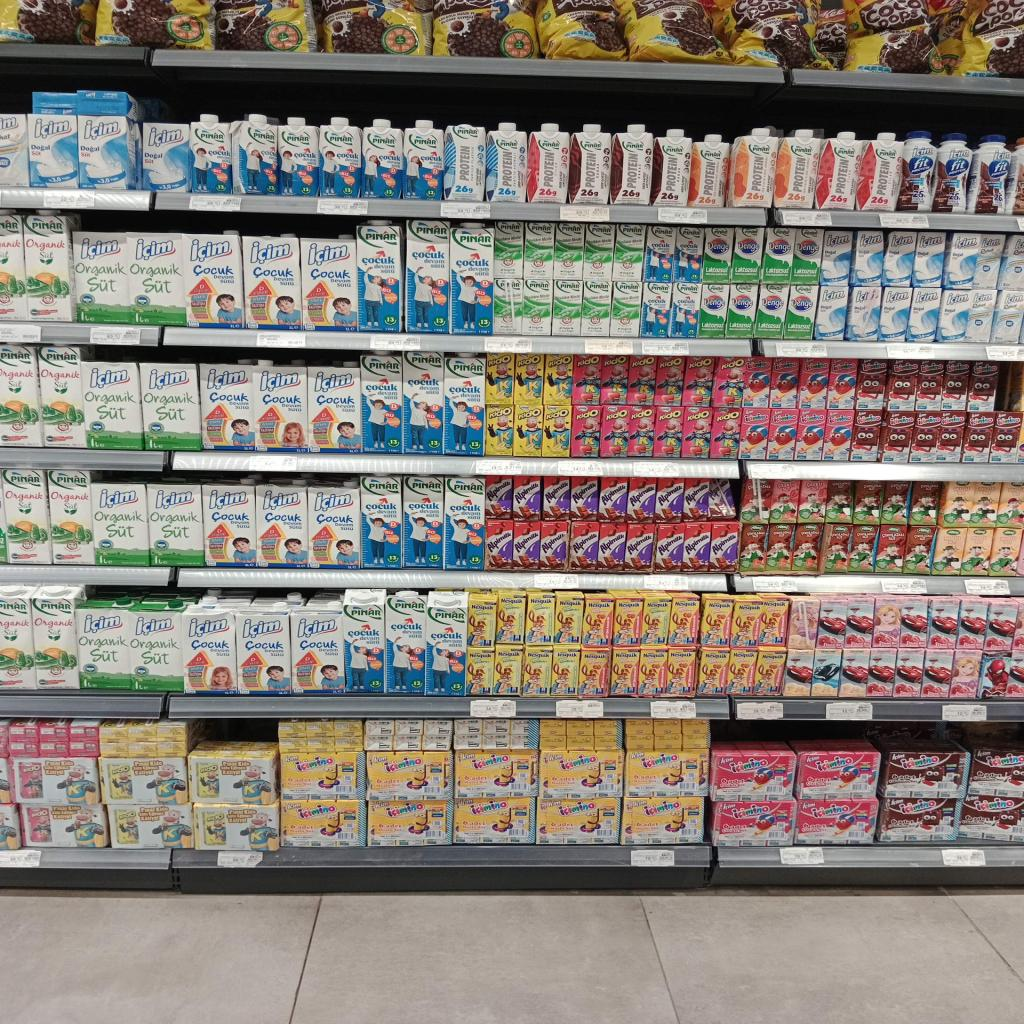price_tag: (555, 459, 619, 476), (41, 190, 95, 208), (90, 326, 140, 345), (779, 846, 825, 866), (632, 462, 689, 478), (248, 454, 298, 472), (826, 702, 873, 721), (190, 195, 241, 212), (318, 198, 368, 215), (736, 701, 783, 719), (556, 700, 603, 718), (651, 700, 695, 719), (440, 203, 491, 219), (659, 207, 707, 224), (887, 344, 941, 359), (471, 699, 516, 717), (748, 461, 793, 479), (371, 334, 421, 350), (942, 849, 986, 867), (631, 849, 675, 867), (484, 337, 533, 353), (584, 339, 633, 355), (880, 577, 926, 594), (0, 324, 41, 343), (880, 213, 928, 229), (473, 460, 523, 475), (560, 206, 610, 221), (256, 332, 306, 347), (943, 704, 987, 721), (0, 849, 41, 867), (533, 573, 579, 589), (964, 579, 1010, 595), (782, 212, 831, 227), (775, 343, 827, 357), (642, 340, 689, 355), (644, 574, 688, 590), (218, 851, 262, 867), (756, 576, 799, 592), (986, 346, 1023, 361), (1017, 217, 1023, 231)
product: (181, 232, 246, 329), (21, 213, 76, 323), (72, 231, 135, 324), (190, 742, 279, 806), (127, 231, 185, 326), (82, 360, 143, 450), (140, 362, 202, 450), (300, 238, 358, 331), (243, 236, 300, 330), (31, 586, 82, 690), (129, 600, 186, 692), (76, 599, 134, 689), (793, 740, 881, 799), (236, 603, 292, 694), (90, 480, 149, 566), (710, 742, 796, 801), (878, 741, 967, 798), (199, 364, 257, 451), (356, 225, 403, 332), (0, 470, 53, 564), (182, 606, 239, 693), (78, 114, 142, 191), (406, 220, 450, 332), (147, 480, 203, 567), (202, 480, 258, 567), (290, 605, 345, 693), (38, 346, 85, 448), (257, 480, 312, 567), (451, 224, 493, 334), (341, 590, 385, 694), (257, 366, 310, 452), (310, 367, 362, 454), (46, 470, 94, 564), (400, 352, 444, 454), (309, 483, 361, 569), (100, 754, 189, 804), (426, 592, 468, 696), (12, 756, 101, 805), (366, 750, 452, 800), (0, 344, 42, 446), (280, 750, 364, 801), (194, 803, 279, 853), (624, 748, 708, 798), (539, 749, 624, 798), (620, 797, 705, 846), (386, 591, 426, 695), (361, 356, 403, 454), (281, 798, 365, 847), (536, 796, 621, 844), (793, 797, 878, 845), (729, 127, 779, 208), (453, 795, 535, 844), (20, 803, 109, 848), (442, 477, 485, 570), (711, 800, 796, 847), (444, 357, 484, 456), (0, 585, 37, 690), (108, 804, 194, 849), (367, 800, 451, 846), (455, 750, 537, 797), (28, 113, 79, 188), (361, 476, 402, 568), (403, 475, 443, 569), (233, 114, 279, 194), (856, 133, 903, 211), (775, 130, 821, 209), (815, 132, 861, 210), (189, 114, 233, 193), (526, 124, 569, 204), (610, 125, 653, 205), (877, 798, 957, 841), (569, 125, 610, 205), (322, 117, 362, 198), (363, 119, 404, 198), (485, 123, 526, 202), (278, 118, 319, 196), (968, 135, 1009, 213), (443, 124, 485, 200), (142, 122, 188, 191), (403, 120, 443, 199), (651, 129, 692, 206), (897, 132, 936, 212), (0, 211, 28, 322), (932, 133, 971, 212), (967, 744, 1023, 798), (959, 795, 1023, 842), (687, 134, 728, 207), (941, 232, 981, 290), (983, 597, 1020, 656), (978, 652, 1023, 700), (0, 114, 29, 186), (882, 230, 918, 286), (915, 360, 955, 410), (730, 227, 765, 284), (819, 230, 854, 286), (911, 230, 945, 287), (711, 357, 749, 408), (970, 233, 1005, 288), (761, 409, 798, 461), (643, 226, 676, 284), (850, 229, 884, 285), (612, 224, 644, 282), (761, 227, 793, 285), (789, 228, 822, 284), (909, 482, 951, 526), (956, 596, 989, 652), (523, 222, 554, 281), (703, 227, 734, 286), (880, 411, 915, 463), (581, 593, 614, 648), (652, 405, 686, 458), (494, 221, 525, 279), (495, 589, 527, 645), (700, 594, 733, 648), (769, 357, 803, 409), (731, 595, 763, 650), (927, 596, 960, 649), (584, 224, 614, 282), (885, 360, 919, 411), (962, 412, 996, 463), (552, 591, 584, 645), (787, 596, 819, 650), (793, 410, 826, 462), (821, 410, 854, 462), (468, 590, 497, 649), (554, 223, 584, 280), (674, 227, 704, 284), (571, 405, 603, 458), (751, 649, 787, 696), (854, 359, 887, 410), (990, 412, 1023, 463), (932, 527, 967, 575), (668, 593, 699, 647), (826, 358, 858, 410), (654, 356, 687, 406), (683, 357, 716, 407), (849, 411, 882, 461), (524, 591, 554, 646), (758, 593, 788, 648), (961, 528, 996, 575), (641, 592, 672, 645), (881, 482, 919, 525), (797, 359, 829, 410), (966, 361, 998, 412), (664, 648, 698, 696), (613, 594, 643, 648), (810, 649, 843, 698), (898, 596, 929, 648), (492, 644, 523, 696), (791, 524, 823, 574), (696, 648, 730, 695), (485, 354, 515, 407), (844, 596, 874, 649), (920, 650, 953, 698), (739, 409, 770, 460), (903, 527, 936, 574), (543, 354, 574, 404), (572, 355, 603, 405), (710, 409, 741, 459), (935, 412, 966, 462), (542, 404, 571, 457), (763, 524, 795, 572), (846, 525, 878, 573), (874, 525, 906, 573), (578, 648, 610, 696), (742, 357, 772, 408), (941, 360, 971, 411), (821, 524, 852, 573), (466, 648, 497, 697), (838, 648, 869, 697), (949, 652, 981, 699), (514, 353, 544, 403), (569, 521, 599, 571), (817, 598, 847, 648), (521, 646, 551, 696), (683, 406, 711, 459), (638, 646, 667, 697), (726, 648, 758, 694), (782, 650, 814, 696), (627, 356, 657, 405), (655, 524, 685, 573), (867, 648, 897, 697), (1004, 138, 1023, 215), (939, 483, 973, 526), (997, 234, 1023, 290), (514, 404, 542, 456), (601, 405, 629, 457), (551, 645, 579, 697), (485, 406, 514, 456), (912, 411, 941, 461), (485, 519, 513, 570), (710, 523, 739, 572), (770, 480, 802, 524), (610, 648, 639, 696), (895, 649, 924, 697), (627, 406, 654, 457), (739, 479, 770, 523), (970, 482, 1001, 526), (625, 524, 653, 572), (739, 524, 767, 572), (540, 521, 567, 570), (598, 478, 628, 522), (655, 479, 685, 523), (852, 482, 882, 526), (627, 479, 656, 524), (798, 481, 829, 523), (602, 355, 629, 403), (513, 522, 540, 570), (571, 477, 600, 520), (683, 478, 712, 521), (873, 602, 900, 648), (825, 480, 853, 524), (599, 523, 625, 570), (683, 524, 709, 571), (542, 477, 570, 520), (485, 476, 513, 518), (997, 482, 1023, 527), (707, 480, 736, 520), (513, 478, 541, 519), (980, 658, 1009, 695), (1006, 362, 1023, 412), (594, 430, 597, 432), (978, 616, 980, 617), (616, 536, 616, 538)
